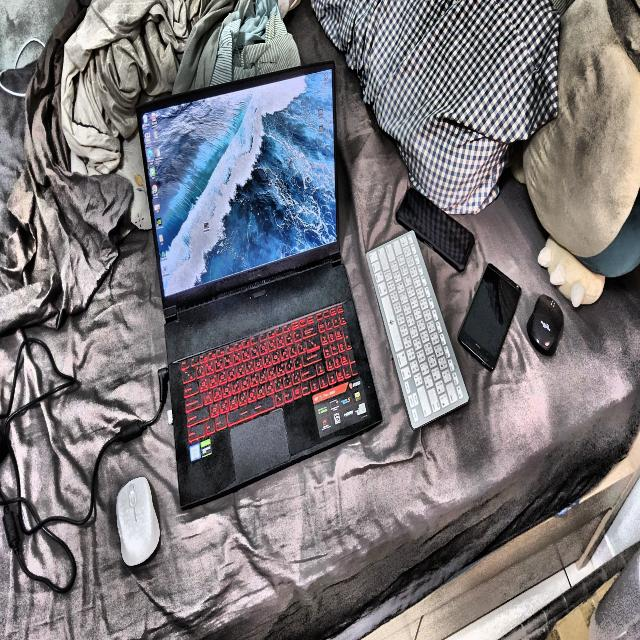Keyboard: (367, 232, 468, 428)
Laptop: (137, 62, 381, 509)
MOUSE: (117, 477, 160, 565), (527, 295, 564, 355)
PHONE: (459, 263, 521, 370), (396, 189, 475, 272)
